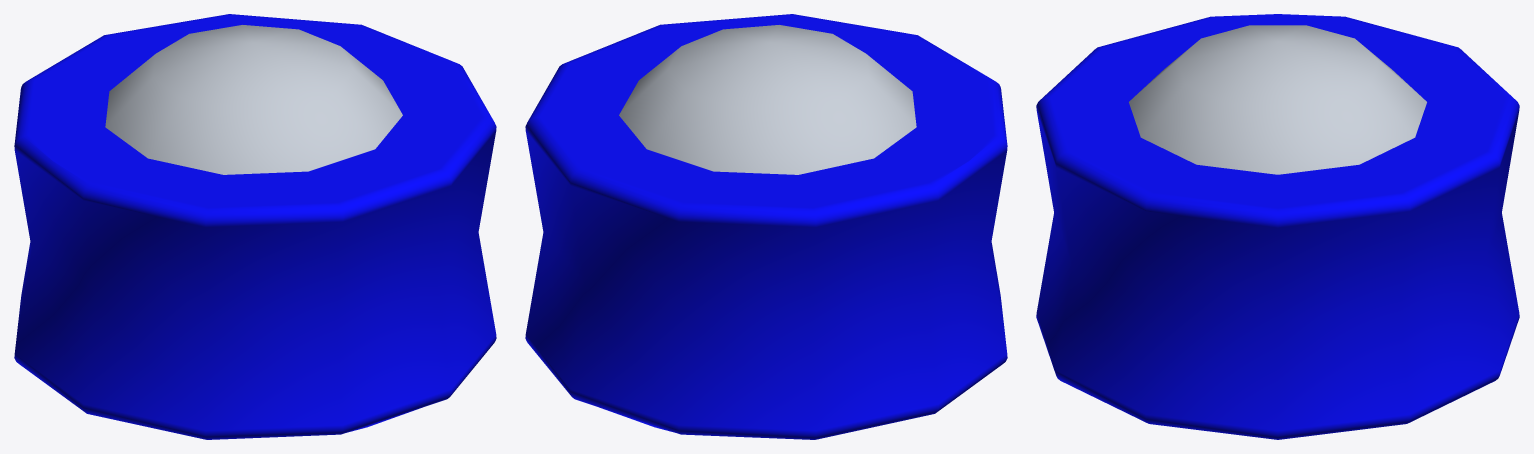
Rendered from Target_ball.FBX.
3 renders of one model, left to right at view 1: azimuth 30°, elevation 25°; view 2: azimuth 150°, elevation 25°; view 3: azimuth 270°, elevation 25°, orthographic.
Parts seen in each view (by area): view 1: Target_Ball_cover, Target_Ball; view 2: Target_Ball_cover, Target_Ball; view 3: Target_Ball_cover, Target_Ball.
Part boxes in pixels (box(x1,y1,x2,y2)): Target_Ball_cover: box(14, 14, 496, 439); Target_Ball: box(105, 25, 402, 174); Target_Ball_cover: box(525, 14, 1007, 439); Target_Ball: box(619, 25, 916, 174); Target_Ball_cover: box(1036, 14, 1519, 439); Target_Ball: box(1129, 25, 1426, 174).
Bounding box in the file's own units: 2.81 × 2.39 × 2.84.
